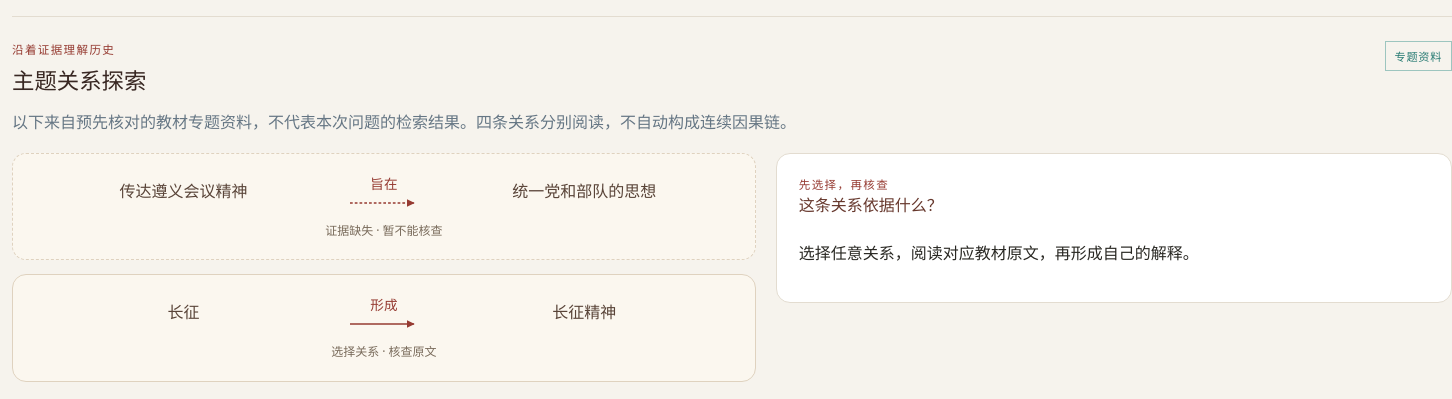
it: TopicGraphView › does not present missing evidence as verified
What coordinates should you click on to do the following:
click the button with aria-label "传达遵义会议精神，旨在，统一党和部队的思想，证据缺失"
I would click on:
 (384, 207)
Its box is x1=12 y1=153 x2=756 y2=260.
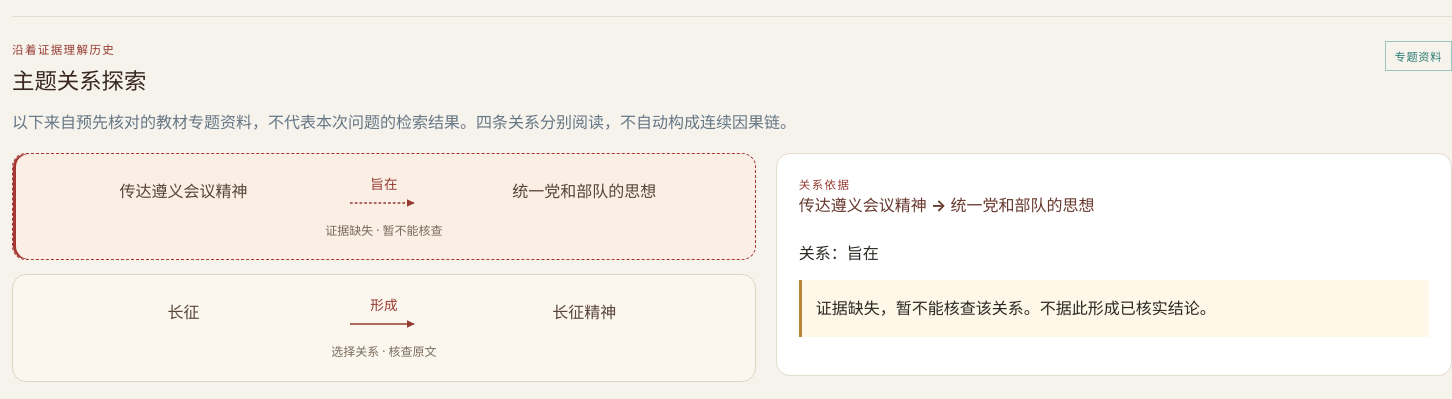
Expected: the message shows "证据缺失，暂不能核查该关系", x1=816 y1=297 x2=1216 y2=319
